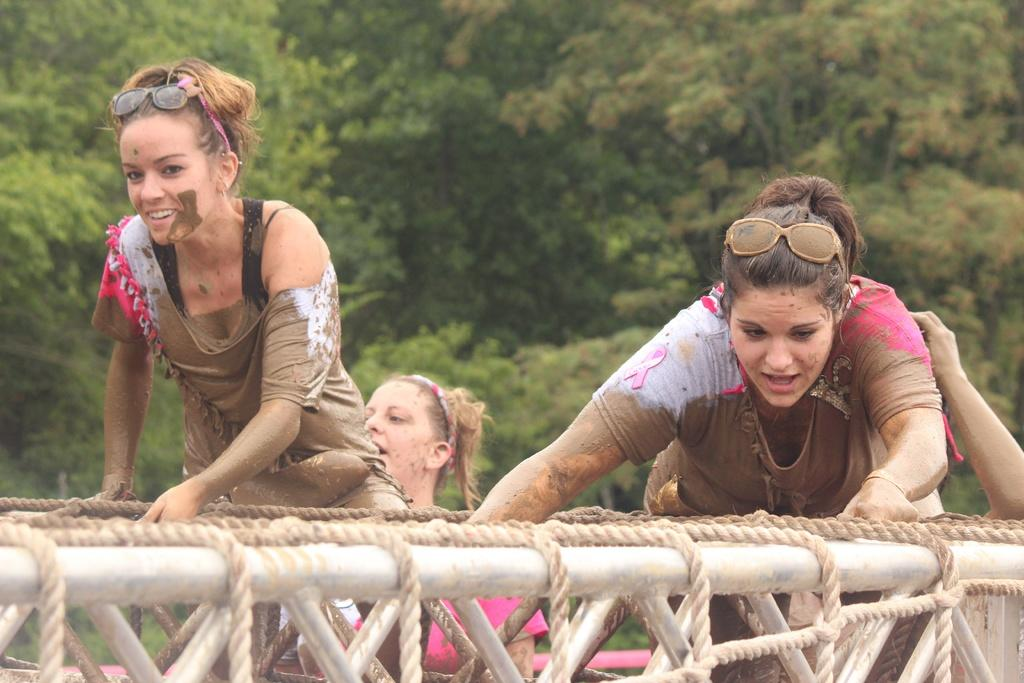Sem Máscara: (722, 282, 834, 405), (119, 114, 206, 246), (365, 380, 427, 474)
